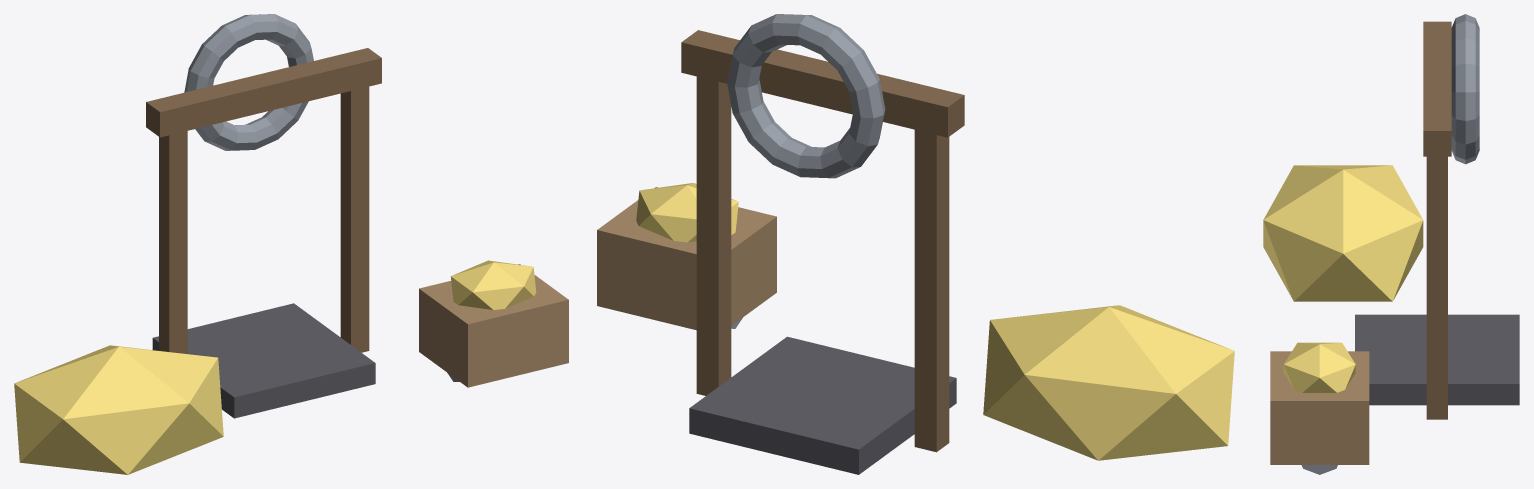
File: gold_mine.glb
The picture shows the model from 3 angles, left to right: view 1: azimuth 30°, elevation 25°; view 2: azimuth 150°, elevation 25°; view 3: azimuth 270°, elevation 25°; orthographic projection. The views are drawn at different scales.
Parts seen in each view (by area): view 1: GoldMineSpoil, GoldMineShaft, GoldMineCart, GoldMineTop, GoldMineLegR, GoldMineWheel, GoldMineLegL, GoldMineCartOre; view 2: GoldMineSpoil, GoldMineShaft, GoldMineCart, GoldMineWheel, GoldMineLegL, GoldMineLegR, GoldMineTop, GoldMineCartOre; view 3: GoldMineSpoil, GoldMineShaft, GoldMineCart, GoldMineLegR, GoldMineWheel, GoldMineTop, GoldMineCartOre.
Boxes of the visible parts, <box> form: GoldMineSpoil: <box>14,345,223,474</box>; GoldMineShaft: <box>152,303,375,418</box>; GoldMineCart: <box>419,264,568,387</box>; GoldMineTop: <box>146,48,381,137</box>; GoldMineLegR: <box>340,86,369,352</box>; GoldMineWheel: <box>184,14,313,150</box>; GoldMineLegL: <box>159,131,187,353</box>; GoldMineCartOre: <box>450,260,536,309</box>; GoldMineSpoil: <box>983,305,1234,460</box>; GoldMineShaft: <box>689,336,956,474</box>; GoldMineCart: <box>597,187,776,330</box>; GoldMineWheel: <box>727,14,885,178</box>; GoldMineLegL: <box>914,130,949,452</box>; GoldMineLegR: <box>696,76,731,395</box>; GoldMineTop: <box>681,30,964,137</box>; GoldMineCartOre: <box>636,183,738,242</box>; GoldMineSpoil: <box>1263,165,1423,301</box>; GoldMineShaft: <box>1355,314,1519,405</box>; GoldMineCart: <box>1270,351,1369,464</box>; GoldMineLegR: <box>1426,156,1447,419</box>; GoldMineWheel: <box>1451,14,1479,164</box>; GoldMineTop: <box>1423,21,1451,156</box>; GoldMineCartOre: <box>1283,342,1355,392</box>.
Size of the model in its own units: 2.54 by 1.74 by 1.09.
